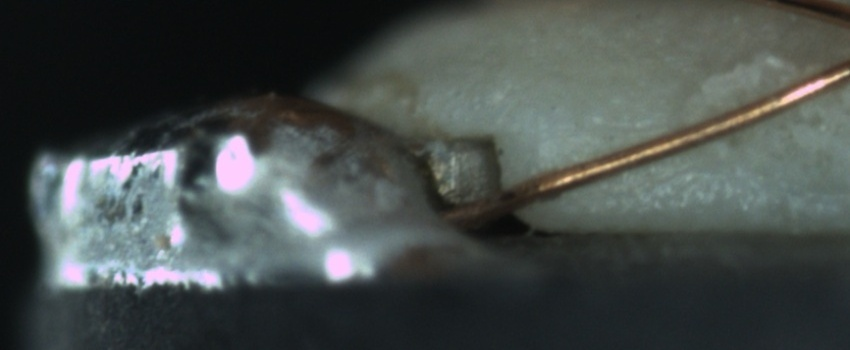DL: (539, 101, 682, 157)
